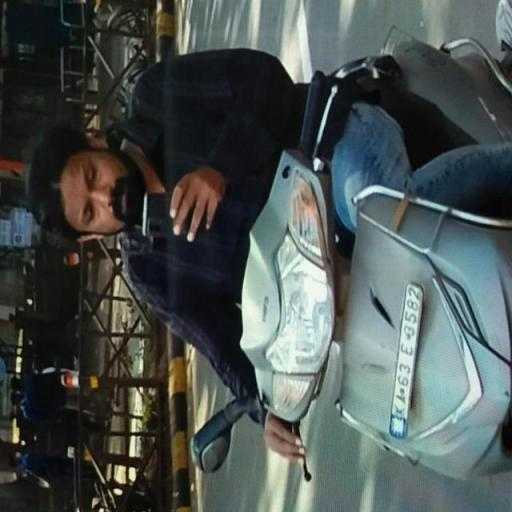using mobile: (139, 182, 220, 244)
